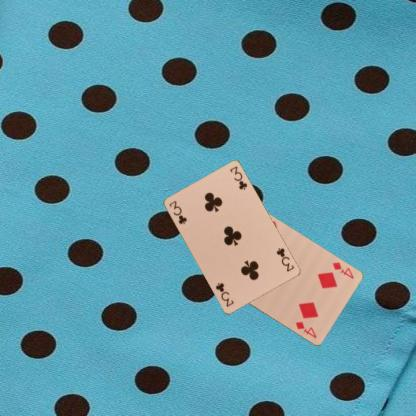3c: (166, 198, 188, 226), (274, 245, 296, 273)
4d: (330, 260, 355, 280)
